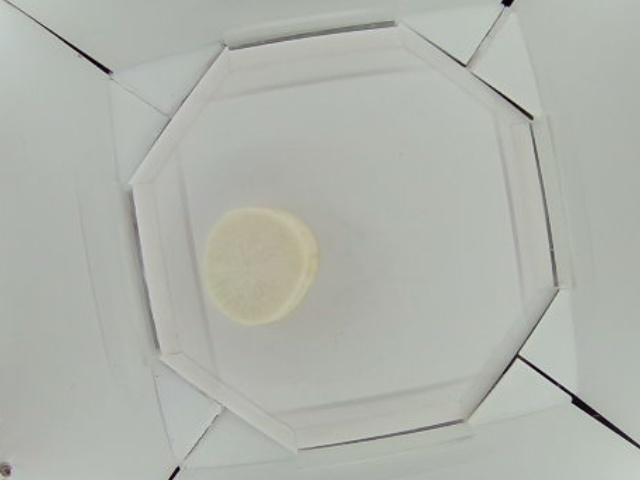Mooli: (202, 209, 319, 323)
